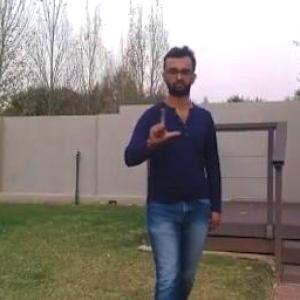land_hand: (147, 103, 180, 147)
